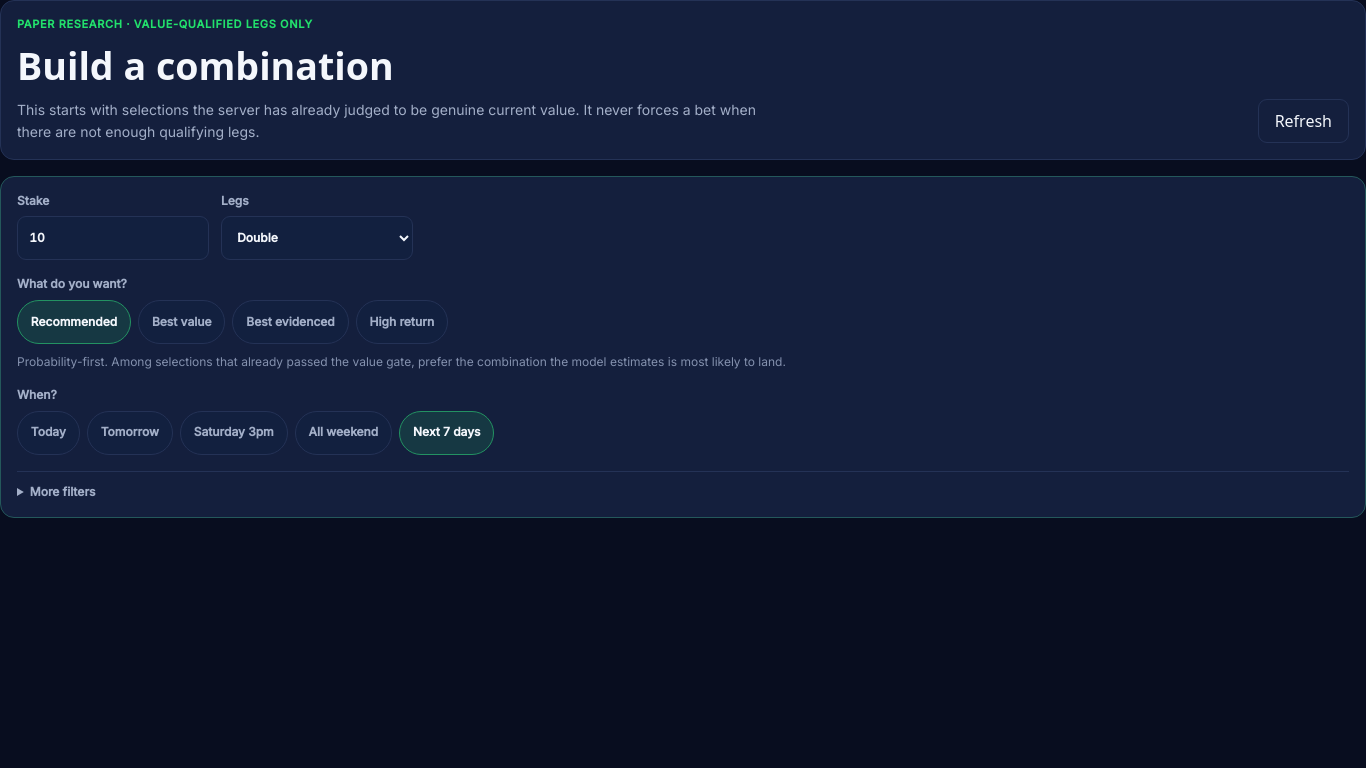
it: the rebuilt Bet Builder controls › makes high-return mode an explicit speculative choice
Click the button "High return": click(402, 322) [356, 300, 448, 344]
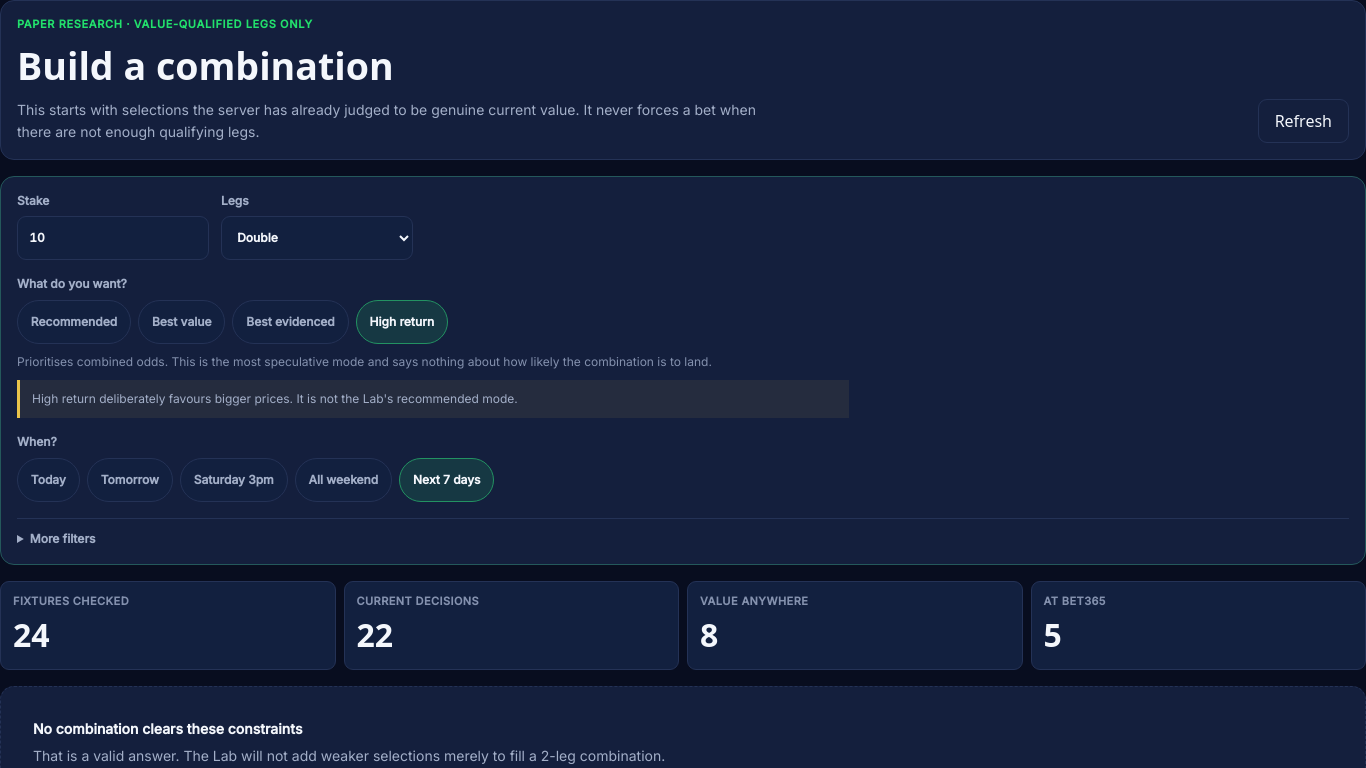
Result: the text "most speculative mode" is shown at [17, 354, 712, 369]
Result: the text "not the Lab's recommended mode" is shown at [32, 391, 518, 406]
